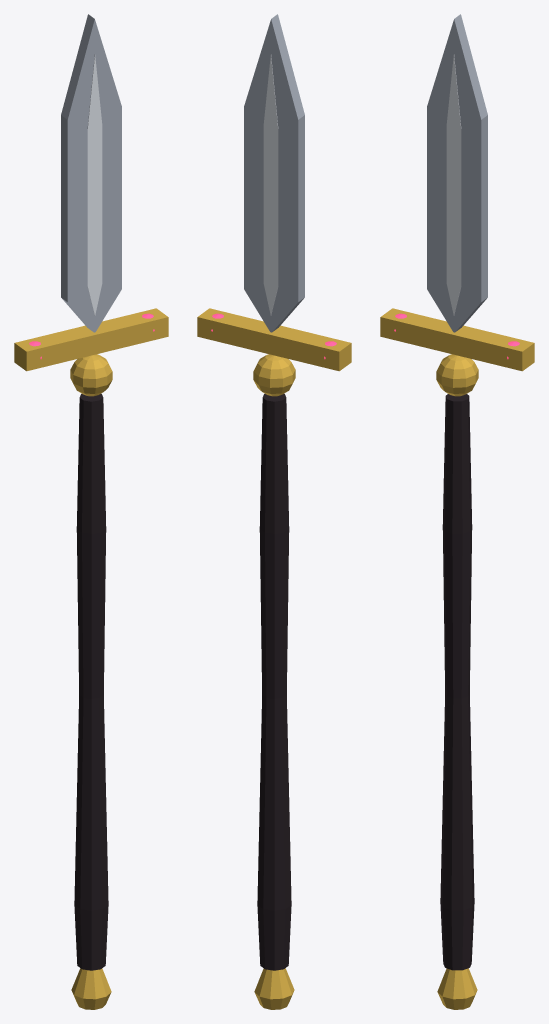
The model's file is staff_swordstaff.glb.
The picture shows the model from 3 angles, left to right: view 1: azimuth 30°, elevation 25°; view 2: azimuth 150°, elevation 25°; view 3: azimuth 330°, elevation 25°; orthographic projection.
Parts seen in each view (by area): view 1: Swd_Shaft, Swd_Blade, Swd_Guard, Swd_Fuller, Swd_Pommel, Swd_Butt; view 2: Swd_Shaft, Swd_Blade, Swd_Guard, Swd_Fuller, Swd_Pommel, Swd_Butt; view 3: Swd_Shaft, Swd_Blade, Swd_Guard, Swd_Fuller, Swd_Pommel, Swd_Butt.
Boxes of the visible parts, x1=… form: Swd_Shaft: x1=74, y1=394, x2=108, y2=970; Swd_Blade: x1=61, y1=14, x2=121, y2=332; Swd_Guard: x1=14, y1=308, x2=168, y2=371; Swd_Fuller: x1=87, y1=54, x2=102, y2=315; Swd_Pommel: x1=70, y1=354, x2=112, y2=396; Swd_Butt: x1=71, y1=968, x2=111, y2=1009; Swd_Shaft: x1=257, y1=394, x2=291, y2=970; Swd_Blade: x1=244, y1=14, x2=304, y2=332; Swd_Guard: x1=197, y1=308, x2=351, y2=371; Swd_Fuller: x1=263, y1=54, x2=278, y2=315; Swd_Pommel: x1=253, y1=354, x2=295, y2=396; Swd_Butt: x1=254, y1=968, x2=294, y2=1009; Swd_Shaft: x1=440, y1=394, x2=474, y2=970; Swd_Blade: x1=427, y1=14, x2=487, y2=332; Swd_Guard: x1=380, y1=308, x2=534, y2=371; Swd_Fuller: x1=446, y1=54, x2=461, y2=315; Swd_Pommel: x1=436, y1=354, x2=478, y2=396; Swd_Butt: x1=437, y1=968, x2=477, y2=1009.
Size of the model in its own units: 0.34 by 2.26 by 0.0834.
